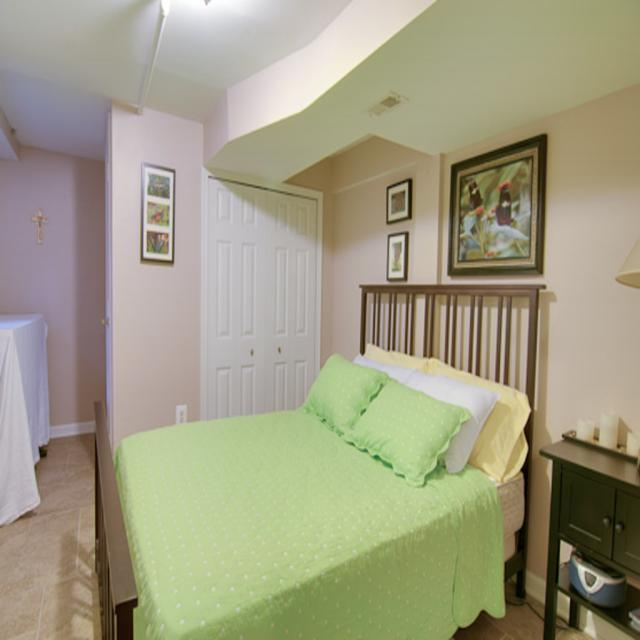desk: (532, 426, 640, 637)
